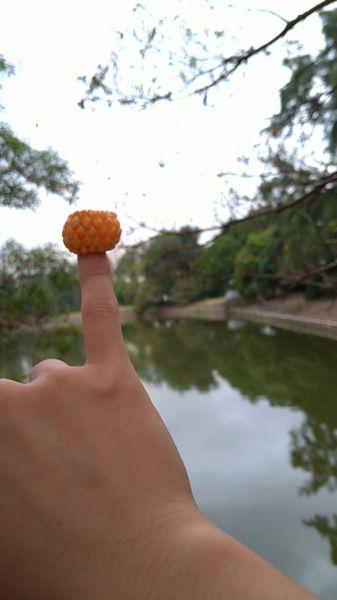eggs: (63, 208, 121, 255)
